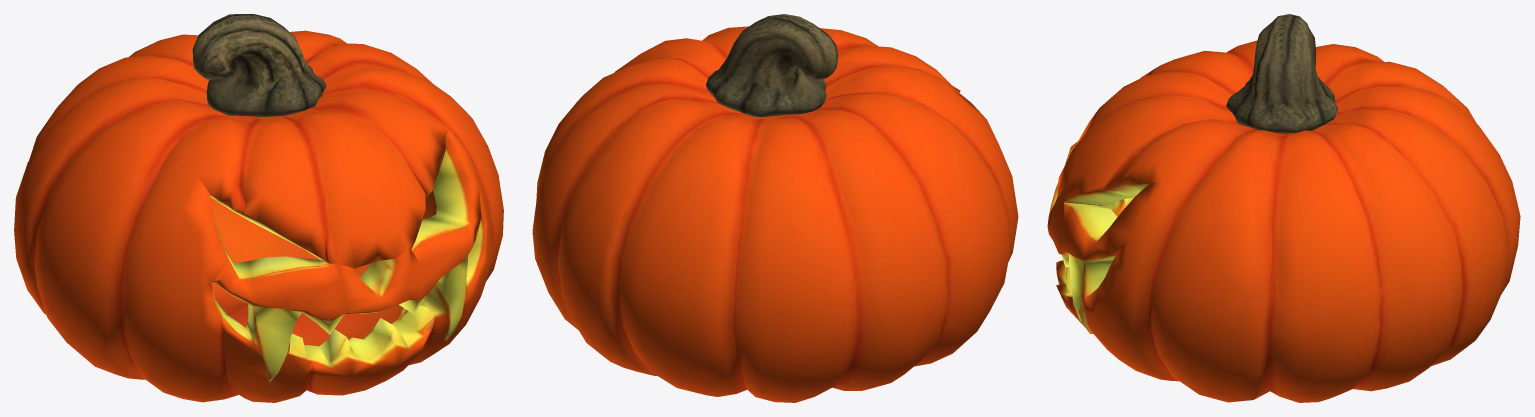
File: fang-o-lantern.glb
3 views of the same model, side by side, from view 1: azimuth 30°, elevation 25°; view 2: azimuth 150°, elevation 25°; view 3: azimuth 270°, elevation 25° (orthographic). The views are drawn at different scales.
Size of the model in its own units: 0.9575 by 0.7109 by 0.9565.
Materials: 1 (1 with a texture image).
